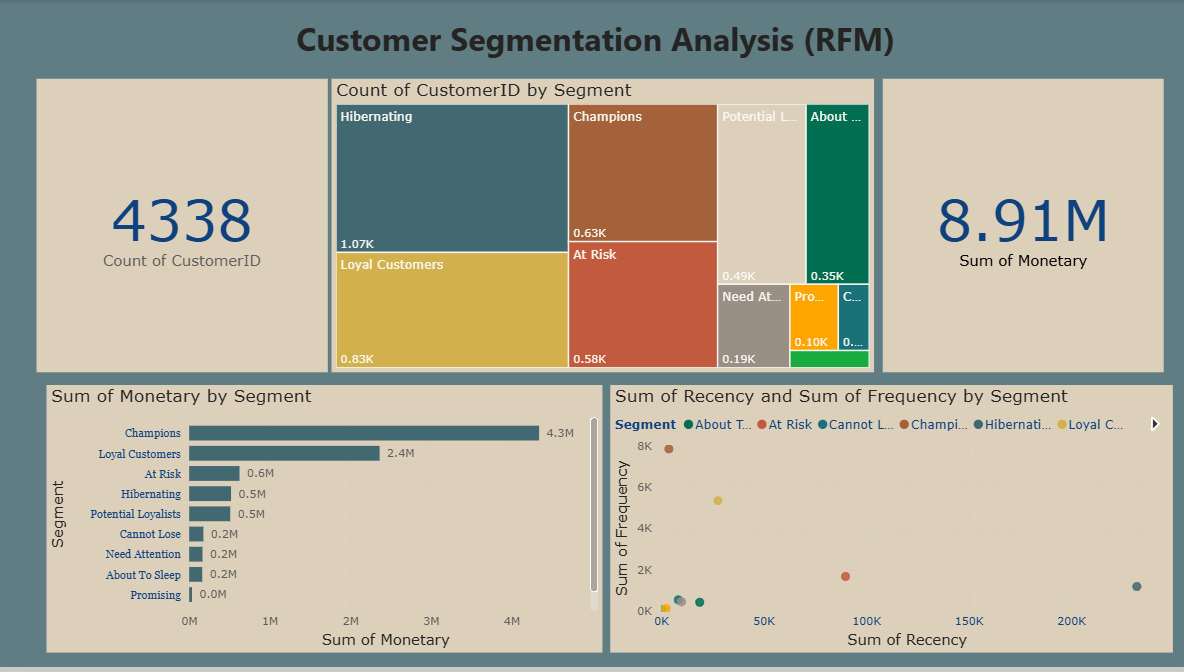

This screenshot's page, from the dashboard's own definition file:
{"tool":"powerbi","page":{"name":"Page 1","canvas":[1280,720],"ordinal":0},"visuals":[{"type":"card","fields":{"Values":["CountNonNull(RFM_Final_Data.CustomerID)"]},"box":[40.5,85,314.3,317],"z":0},{"type":"card","fields":{"Values":["Sum(RFM_Final_Data.Monetary)"]},"box":[953.8,85,303.5,317],"z":1000},{"type":"treemap","fields":{"Group":["RFM_Final_Data.Segment"],"Values":["Count(RFM_Final_Data.CustomerID)"]},"box":[358.9,85,585.5,317],"z":2000},{"type":"scatterChart","fields":{"X":["Sum(RFM_Final_Data.Recency)"],"Y":["Sum(RFM_Final_Data.Frequency)"],"Series":["RFM_Final_Data.Segment"]},"box":[659.7,415.5,607.1,288.7],"z":3000},{"type":"clusteredBarChart","fields":{"Y":["Sum(RFM_Final_Data.Monetary)"],"Category":["RFM_Final_Data.Segment"]},"box":[51.3,415.5,600.3,288.7],"z":4000},{"type":"textbox","title":"      Customer Segmentation Analysis (RFM)","box":[315.7,17.5,673.2,52.6],"z":4001}]}

Visuals, with their boxes in screenshot pixels (x1, y1, x2, y2), scaled from the page's 1280x720 canvas onto the 1184x672 screenshot:
card - CountNonNull(RFM_Final_Data.CustomerID): pyautogui.locateOnScreen(37, 79, 328, 375)
card - Sum(RFM_Final_Data.Monetary): pyautogui.locateOnScreen(882, 79, 1163, 375)
treemap - RFM_Final_Data.Segment x Count(RFM_Final_Data.CustomerID): pyautogui.locateOnScreen(332, 79, 874, 375)
scatterChart - Sum(RFM_Final_Data.Recency) x Sum(RFM_Final_Data.Frequency): pyautogui.locateOnScreen(610, 388, 1172, 657)
clusteredBarChart - Sum(RFM_Final_Data.Monetary) x RFM_Final_Data.Segment: pyautogui.locateOnScreen(47, 388, 603, 657)
"      Customer Segmentation Analysis (RFM)" textbox: pyautogui.locateOnScreen(292, 16, 915, 65)
